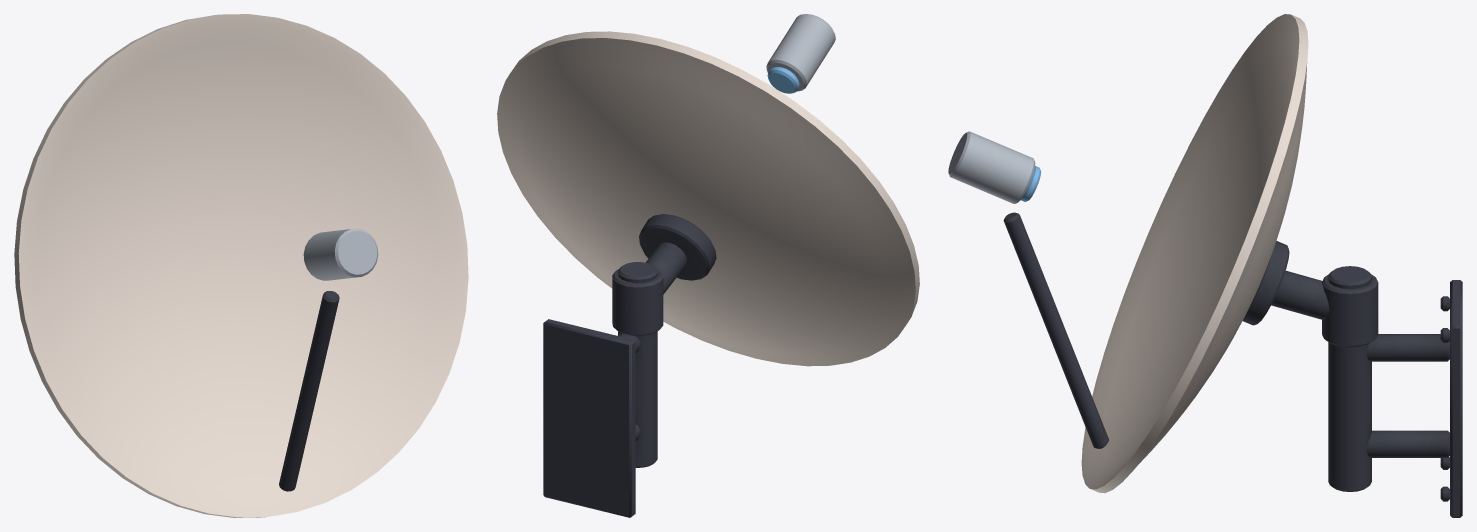
Rendered from arch_sat_dish.glb.
The picture shows the model from 3 angles, left to right: view 1: azimuth 30°, elevation 25°; view 2: azimuth 150°, elevation 25°; view 3: azimuth 270°, elevation 25°; orthographic projection. The views are drawn at different scales.
Parts seen in each view (by area): view 1: satellite-dish_body; view 2: satellite-dish_body; view 3: satellite-dish_body.
Part boxes in pixels (left/top/right/bottom): satellite-dish_body: left=14, top=14, right=468, bottom=517; satellite-dish_body: left=497, top=14, right=919, bottom=517; satellite-dish_body: left=948, top=14, right=1462, bottom=517.
Bounding box in the file's own units: 0.824 × 0.8031 × 0.8224.
1 material, 1 textured.
